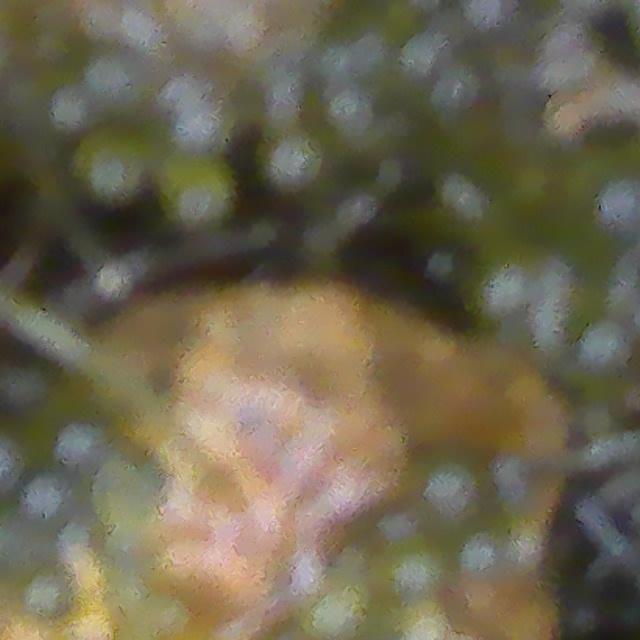SeaGrape: (70, 122, 159, 212), (155, 150, 241, 233), (263, 128, 326, 195)
